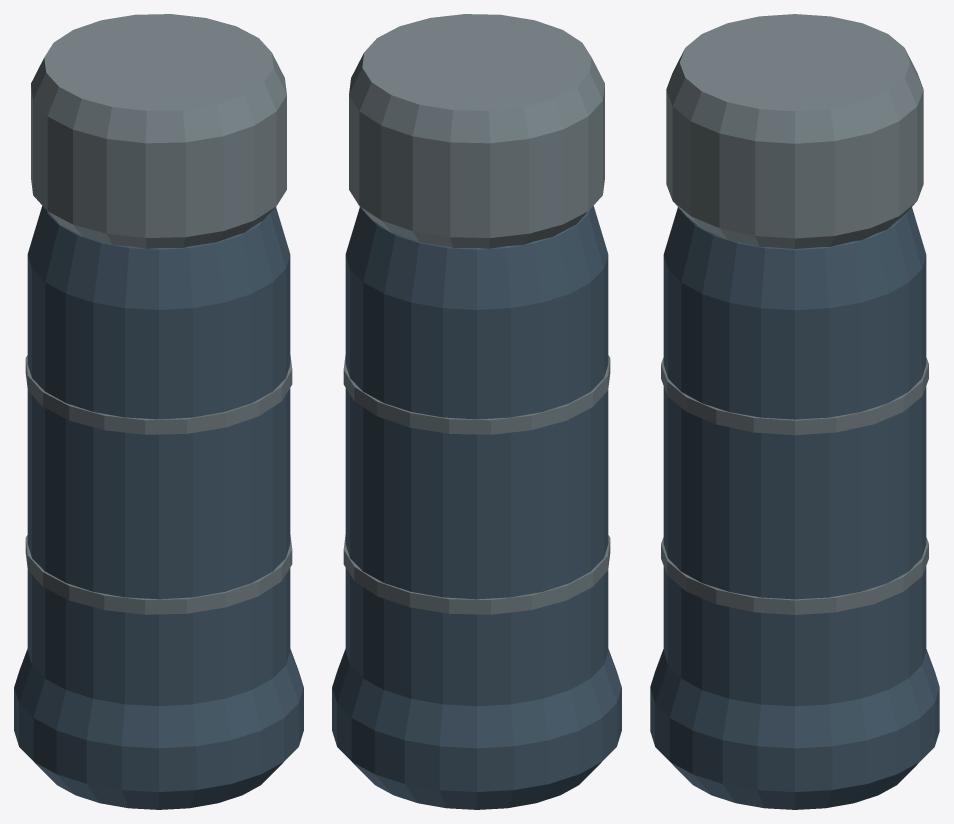
File: G-05_thermos.glb
3 views of the same model, side by side, from view 1: azimuth 30°, elevation 25°; view 2: azimuth 150°, elevation 25°; view 3: azimuth 270°, elevation 25° (orthographic).
Parts seen in each view (by area): view 1: G-05_thermos; view 2: G-05_thermos; view 3: G-05_thermos.
Boxes of the visible parts, x1,y1,x2,y2 form: G-05_thermos: (14,14,303,809); G-05_thermos: (332,14,621,809); G-05_thermos: (650,14,939,809).
Bounding box in the file's own units: 0.108 × 0.287 × 0.108.
